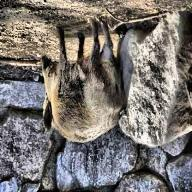boar: (20, 35, 131, 152)
